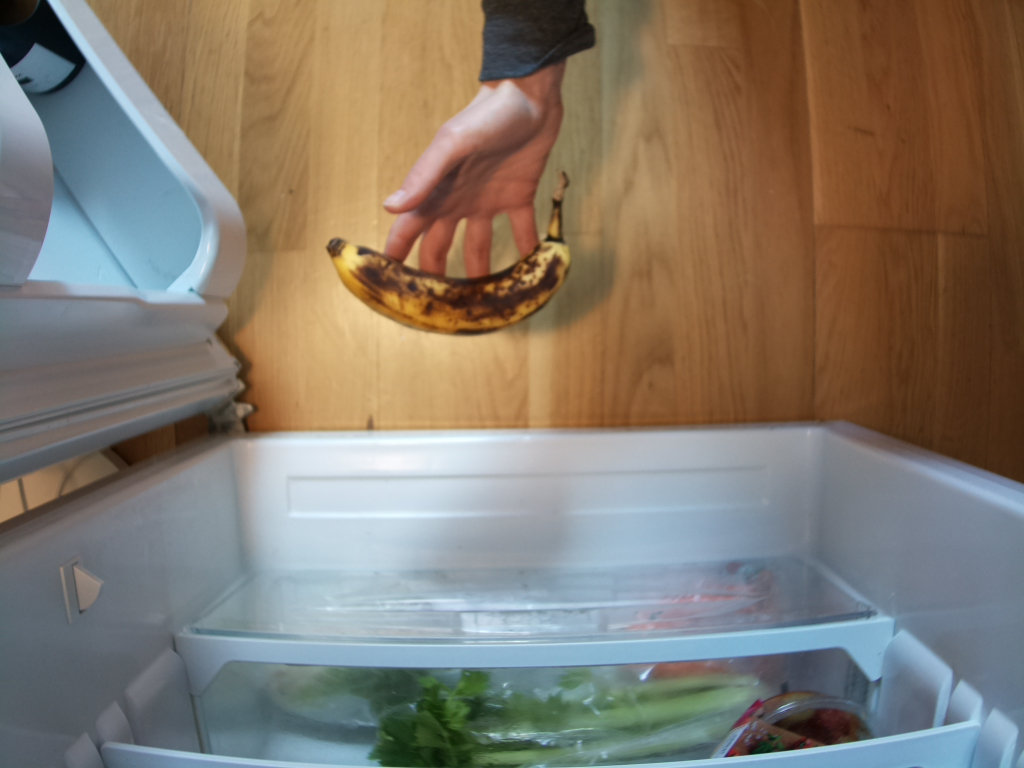banana-overripe: (326, 170, 575, 340)
